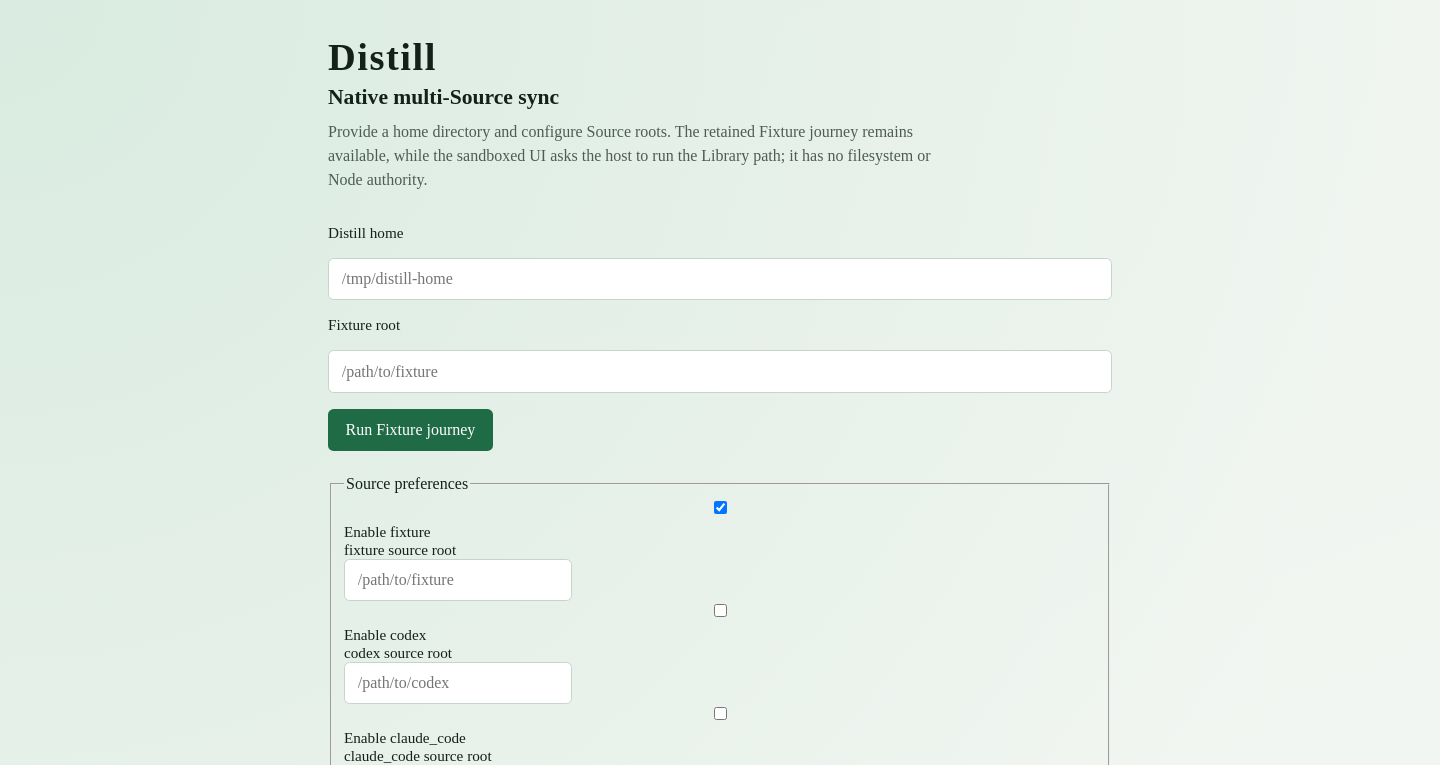
Test: first-run Fixture UI › starts a Sync Run through the bridge and renders completed status
Type "/tmp/home" into the field labelled "Distill home" at [720, 279], box x1=328 y1=258 x2=1112 y2=300
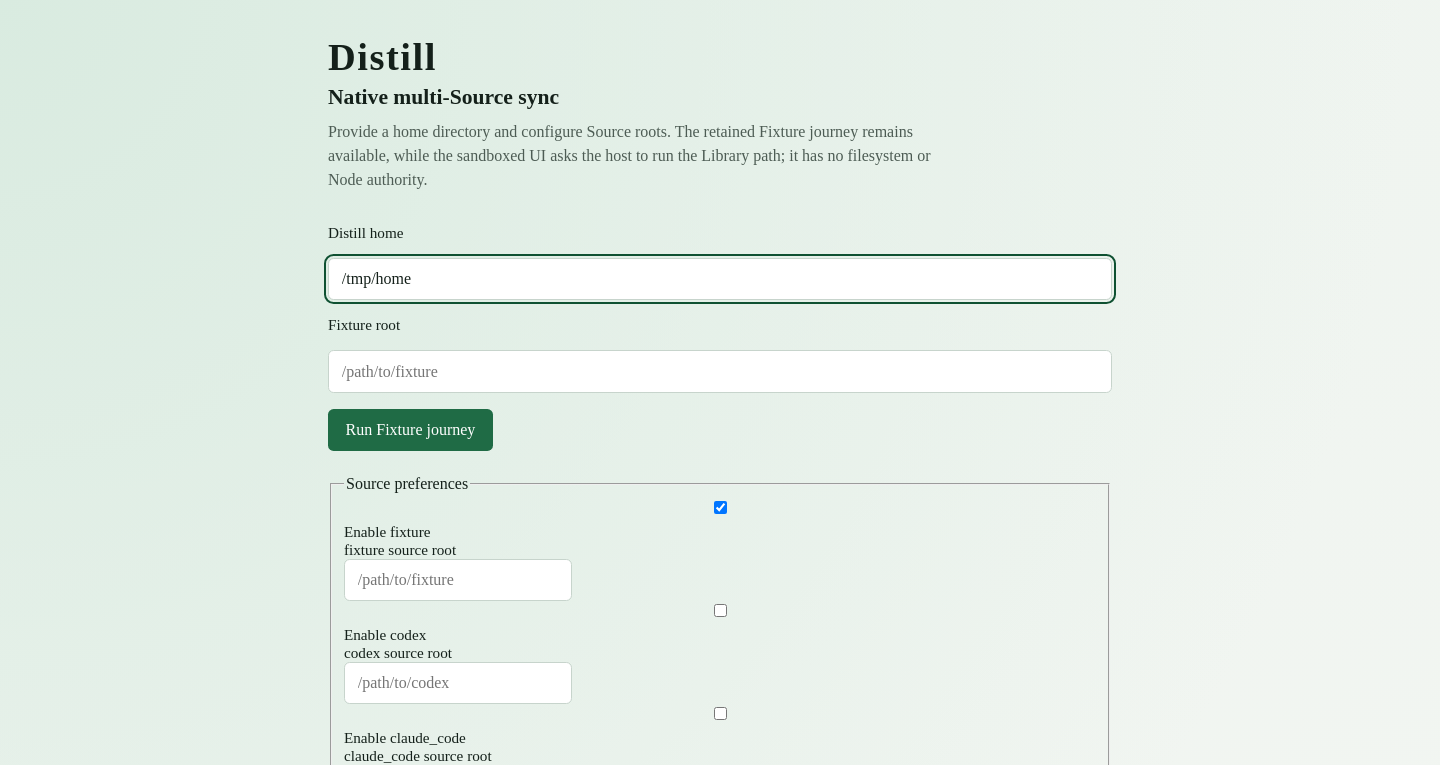
Type "/tmp/fixture" into the field labelled "Fixture root" at [720, 372], box x1=328 y1=350 x2=1112 y2=393
(page scrolled)
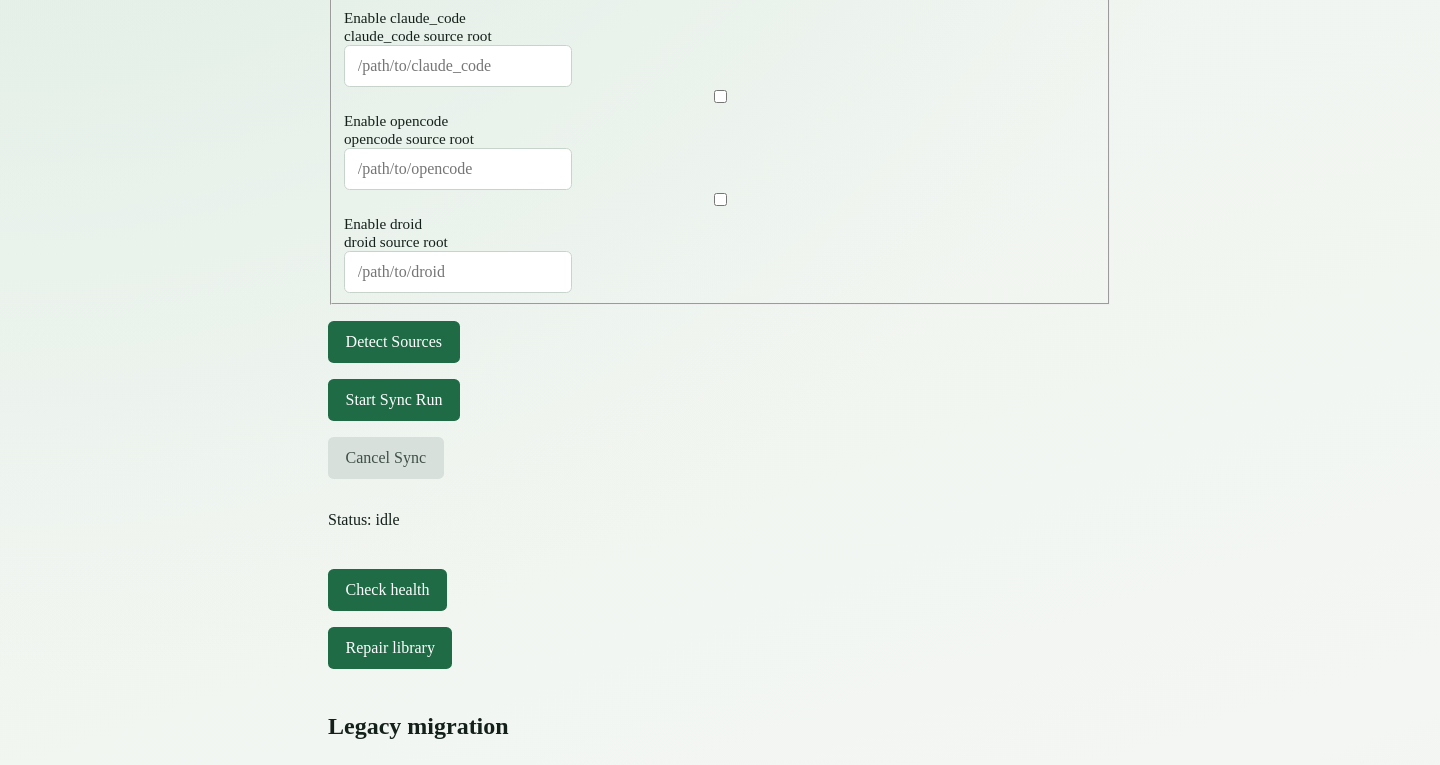
Click the button "Start Sync Run" at [394, 400], box x1=328 y1=379 x2=460 y2=421
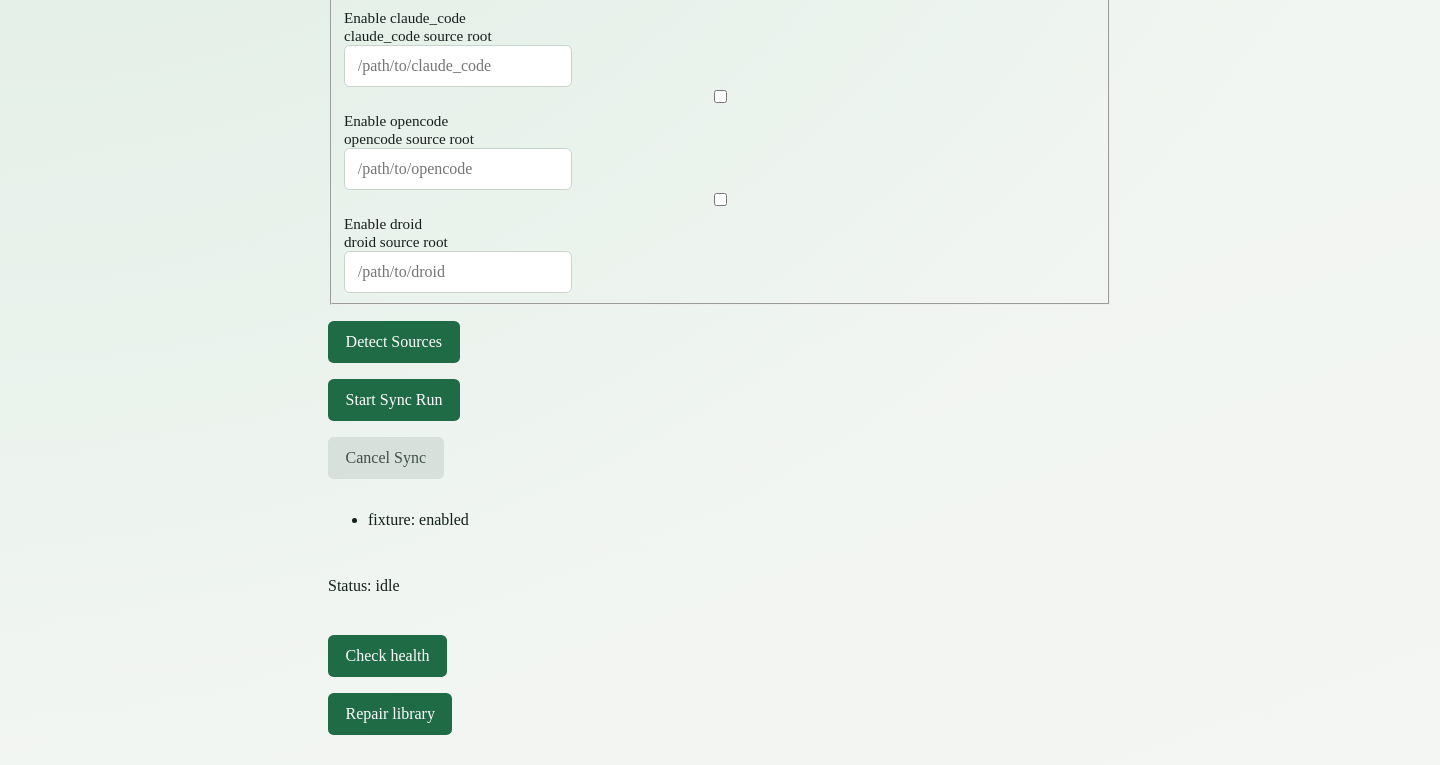
Expected: the list with test id "sources-list" reads "fixture: enabled", x1=368 y1=511 x2=469 y2=528
